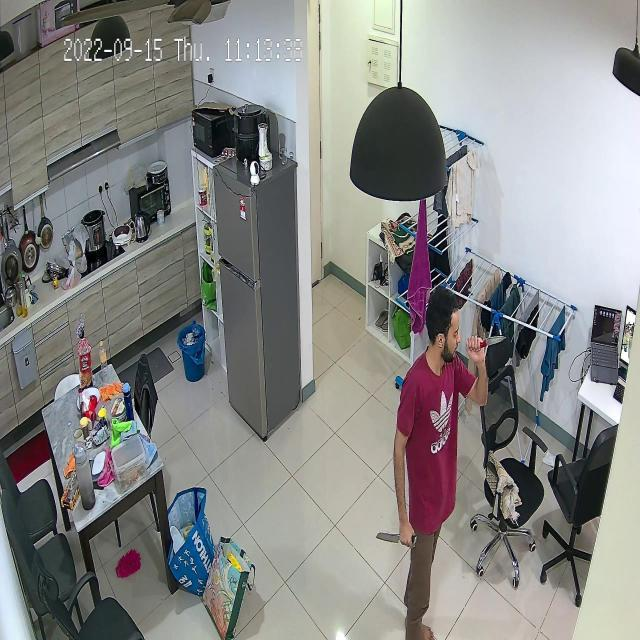Knife: (462, 320, 510, 359), (373, 528, 429, 554)
